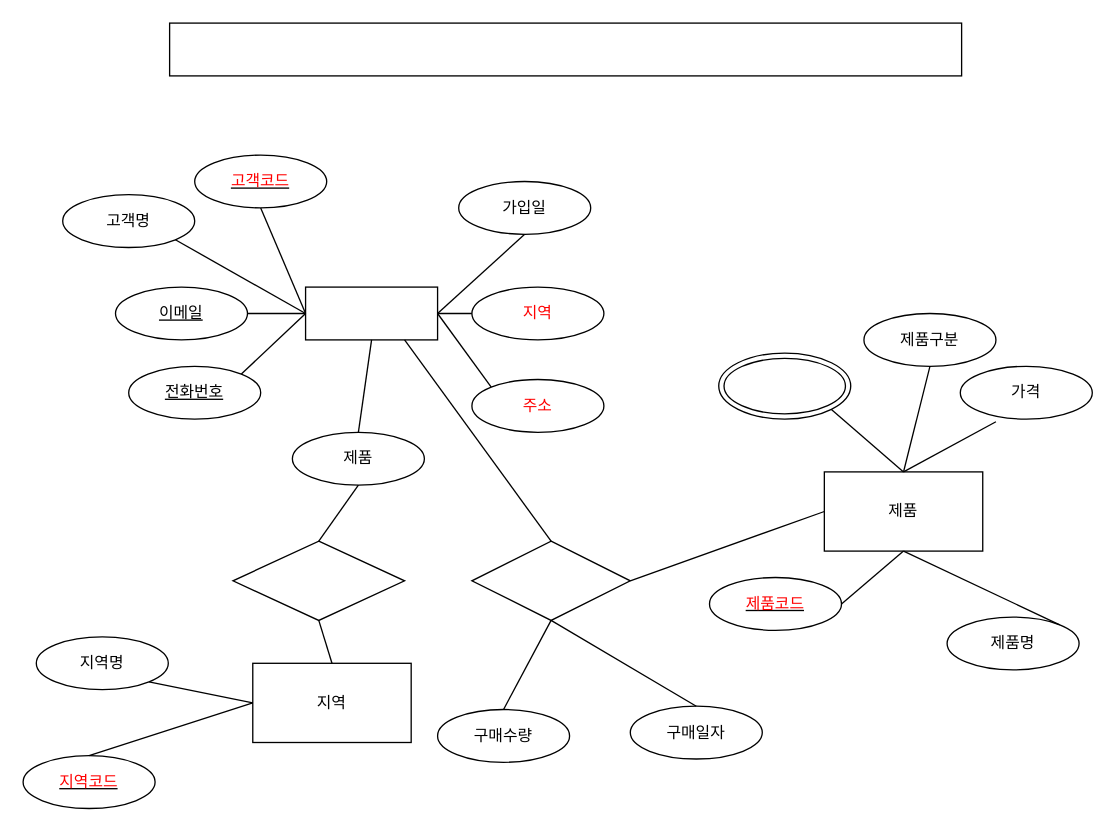
Image size: 1115x832. Some labels were removed from this diagram. Each missing label, with the centre of its shape:
"Conceptual Data Modeling(ERD)" belongs at (565,49).
"고객" belongs at (371,313).
"관리" belongs at (318,580).
"구매" belongs at (550,580).
"제품 색상" belongs at (784,385).
